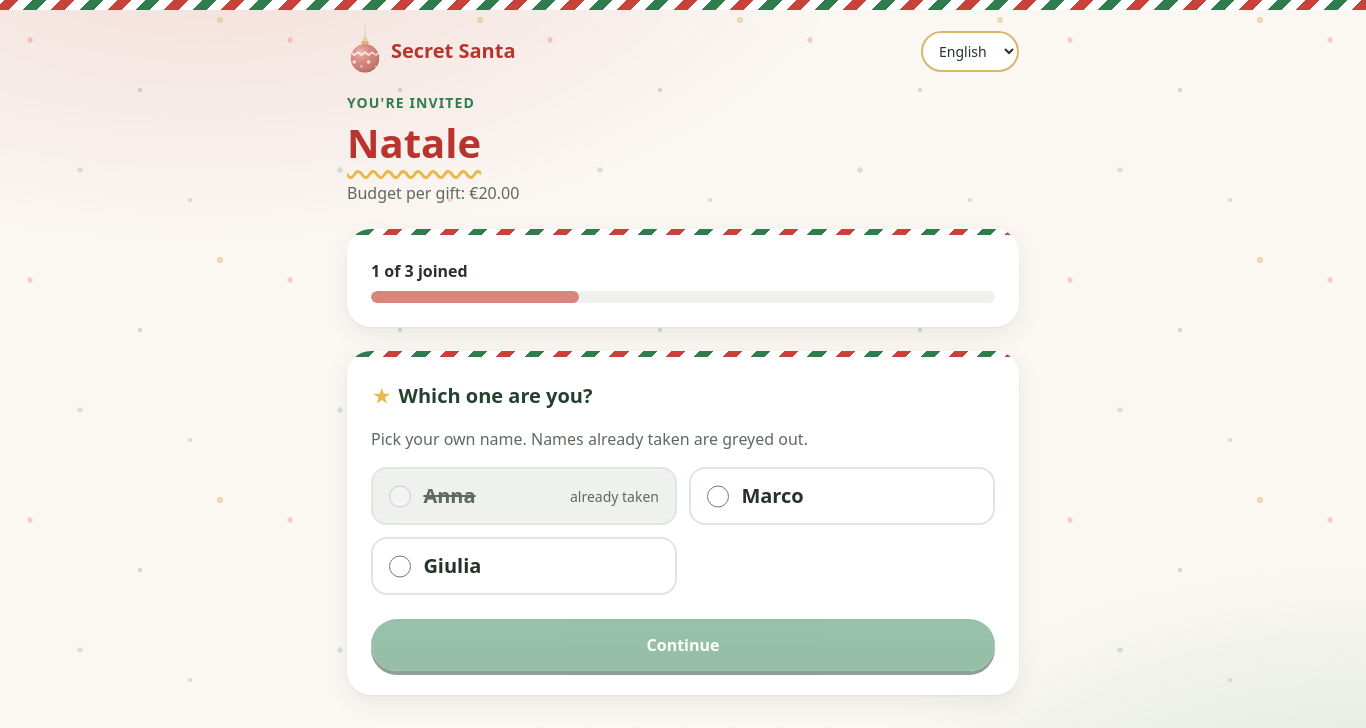
join › reloads the names when the chosen one was taken a moment ago
The image size is (1366, 728).
Click the radio button labelled "Marco".
click(718, 496)  # box [707, 485, 729, 508]
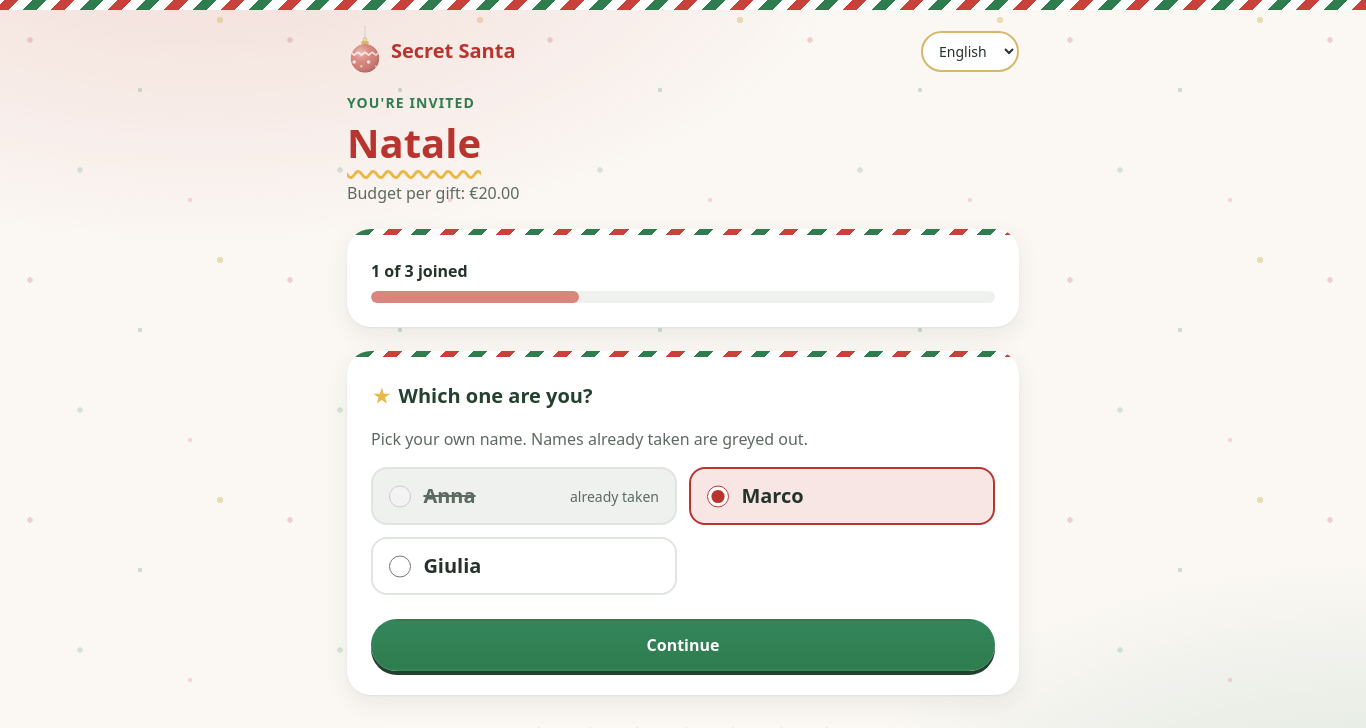
Click the button "Continue".
click(683, 645)  # box [371, 619, 995, 671]
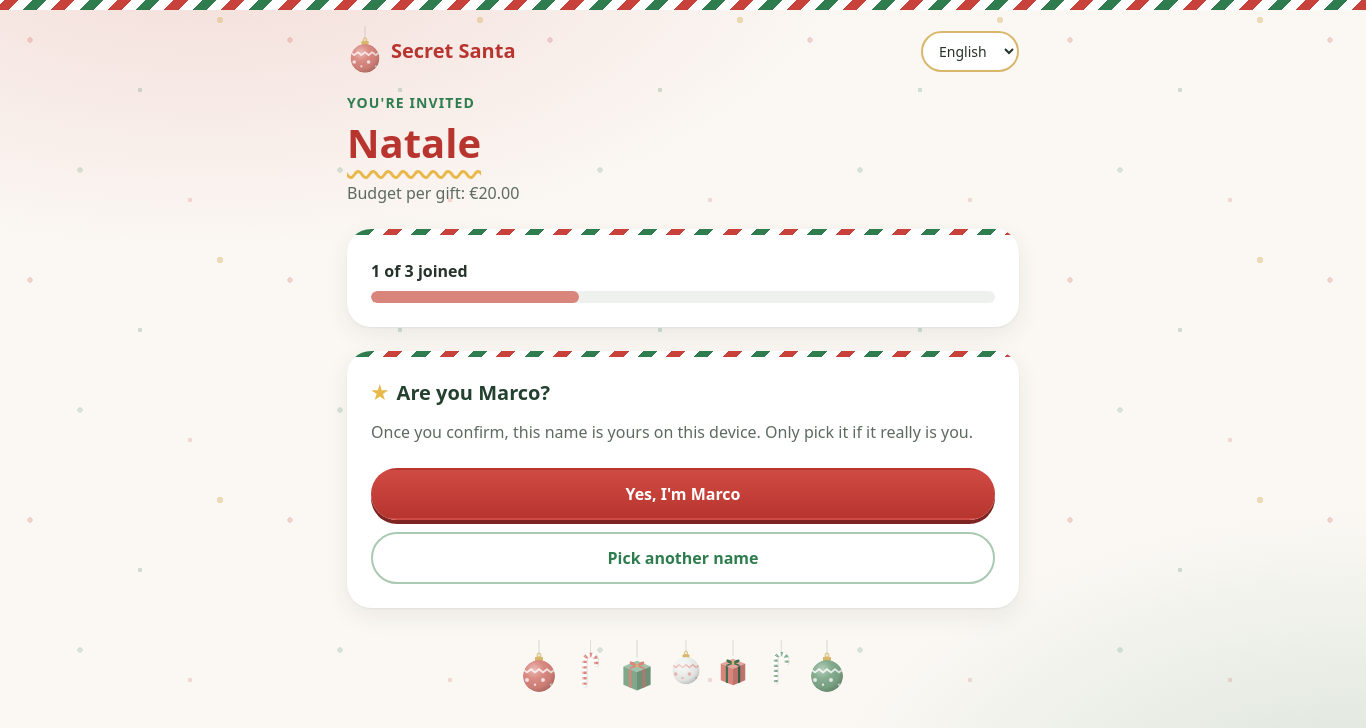
Click the button "Yes, I'm Marco".
click(683, 494)  # box [371, 468, 995, 520]
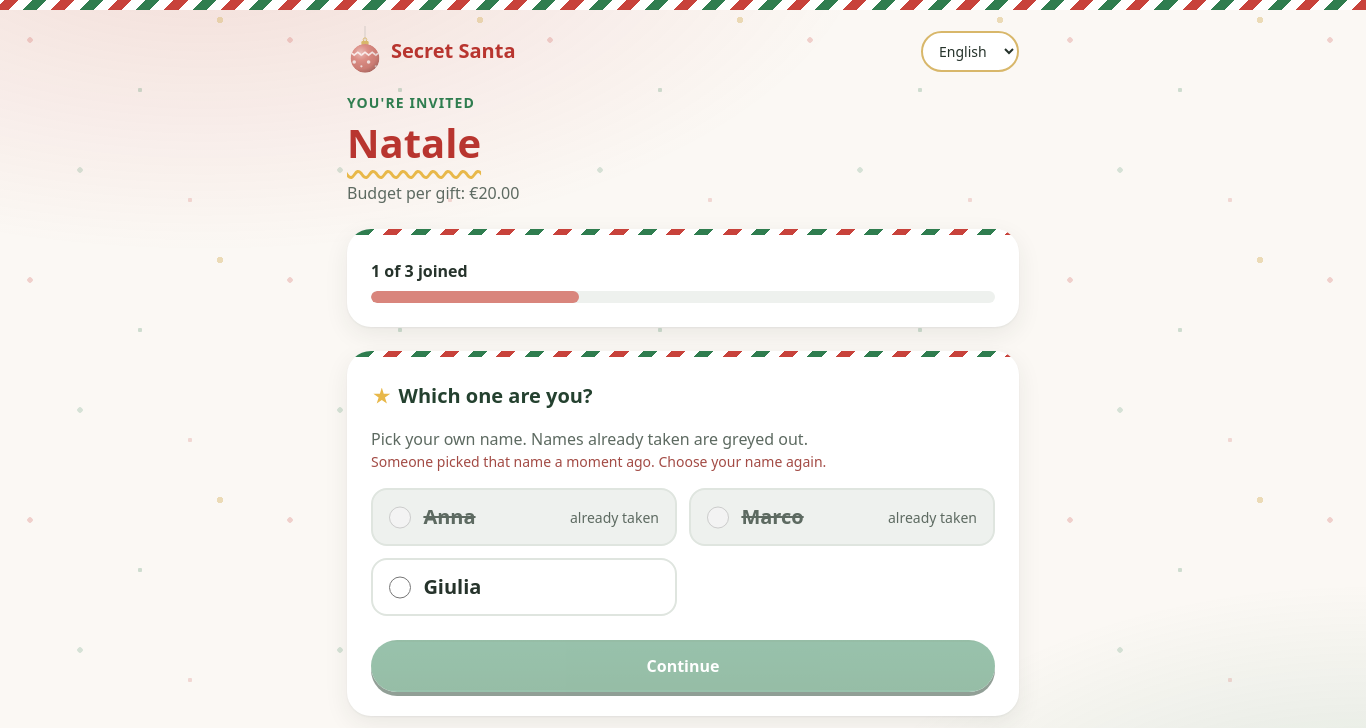
Expected: the message shows "picked that name a moment ago", [371, 452, 826, 471]
Expected: the radio button labelled "Marco already taken" is disabled, [707, 506, 729, 529]
